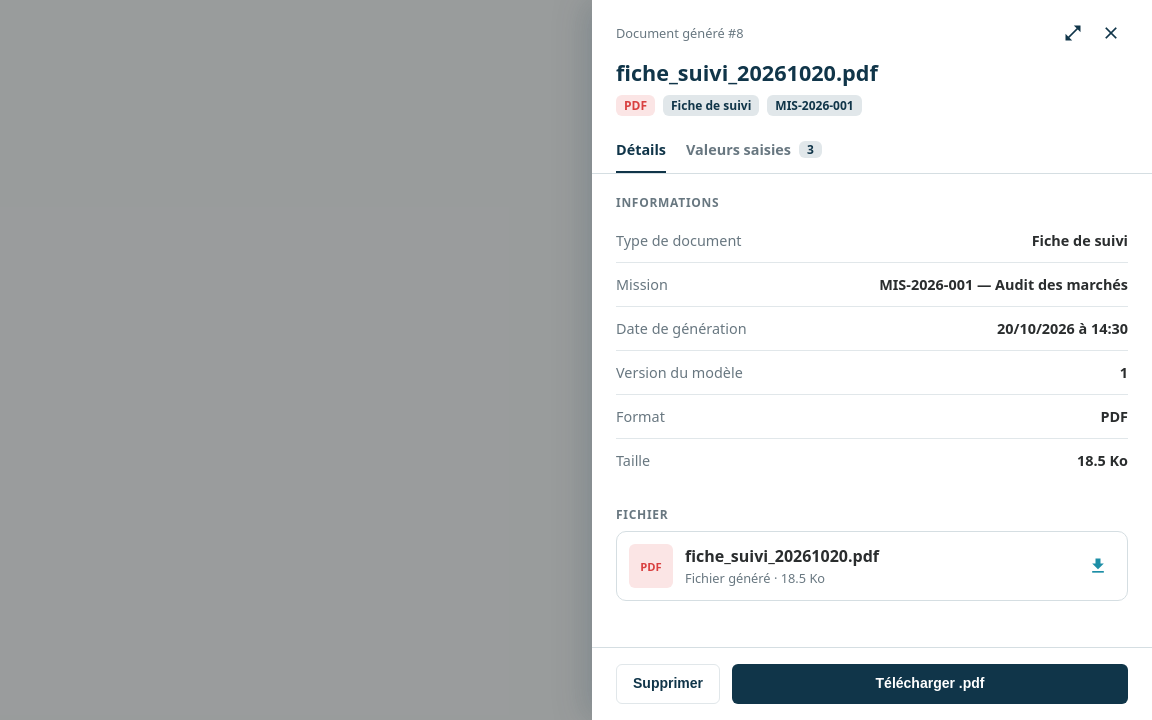
Test case: GeneratedDocumentDetailComponent › should still show the values when the document type no longer exists
Click the tab "Valeurs saisies 3" at (754, 152), box [686, 132, 822, 173]
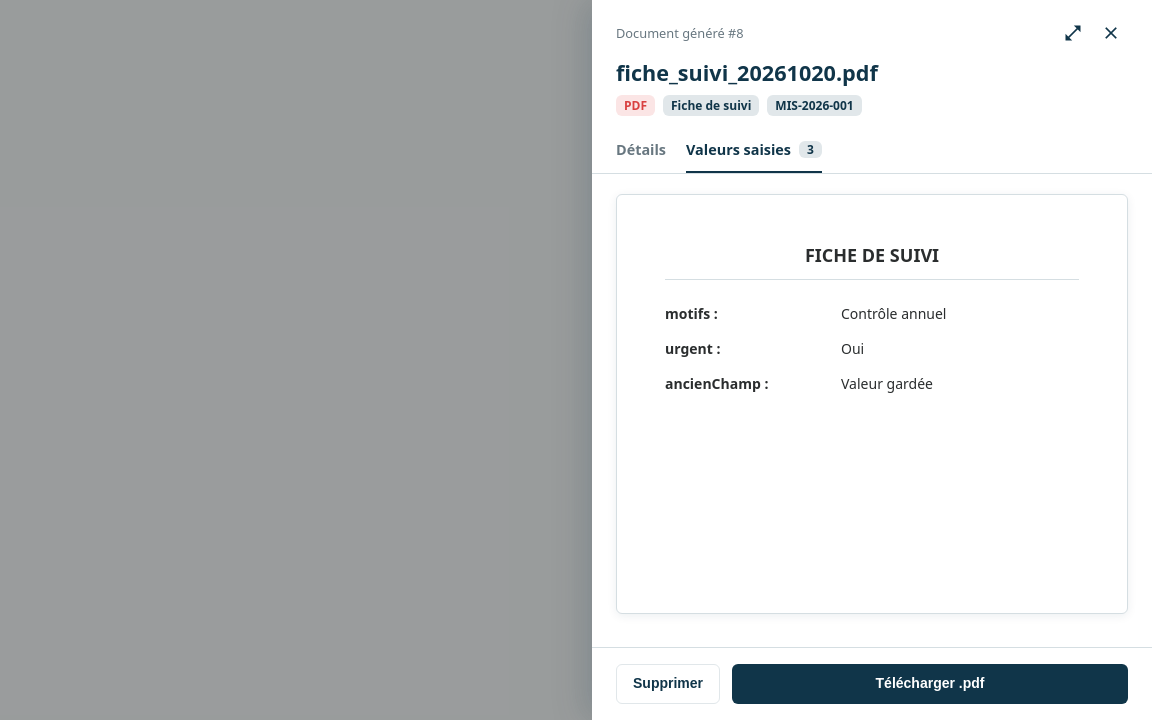
Check: the text "motifs" is shown, box [665, 304, 710, 323]
Check: the text "Contrôle annuel" is shown, box [841, 304, 946, 323]
